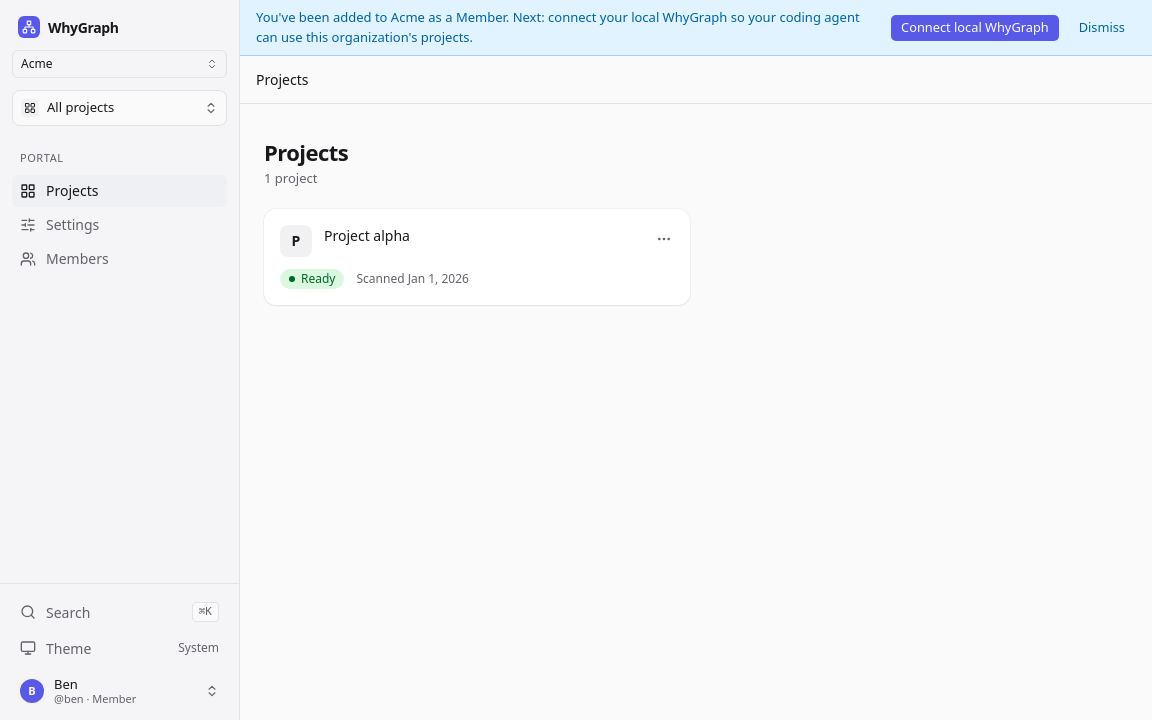
Test: WelcomeBanner › welcomes the new member and dismisses optimistically
Expected: the message with test id "welcome-banner" shows "You've been added to Acme as a Member.", [240,0,1151,56]
Expected: the message with test id "welcome-banner" shows "Next: connect your local WhyGraph so your coding agent can use this organization's projects.", [256,8,860,46]
Click the button "Dismiss" at point(1102, 28), box [1068,14,1136,42]
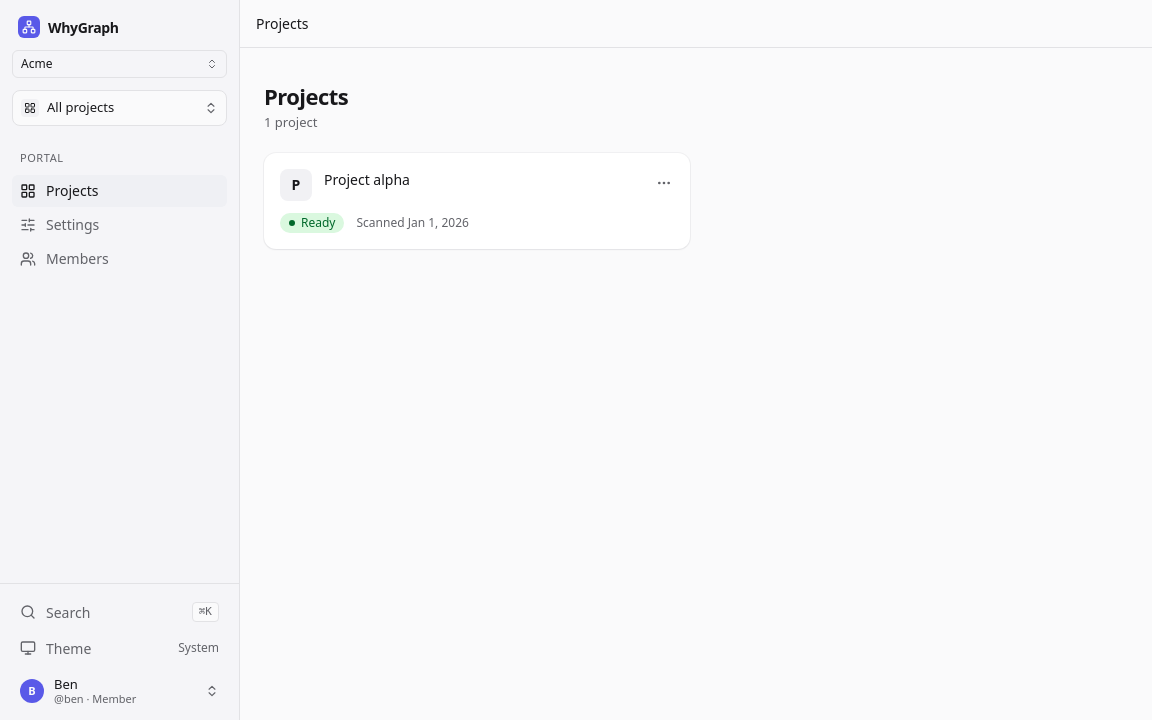
Result: the message with test id "welcome-banner" is gone
